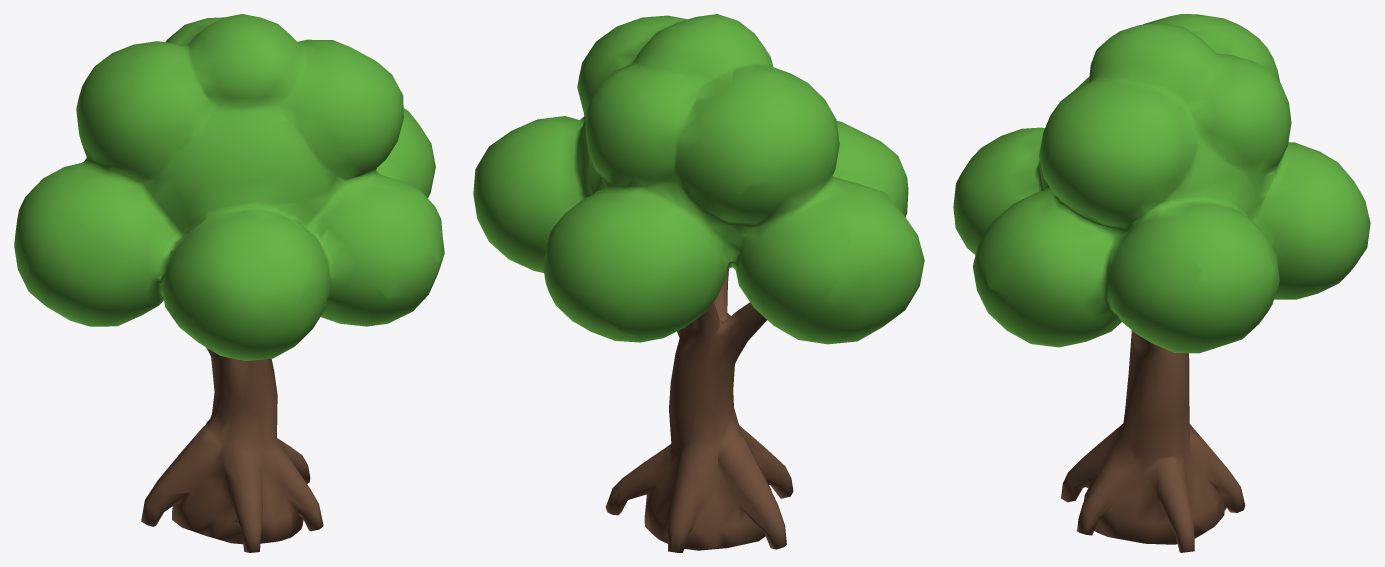
Rendered from tree_oak.glb.
The picture shows the model from 3 angles, left to right: view 1: azimuth 30°, elevation 25°; view 2: azimuth 150°, elevation 25°; view 3: azimuth 270°, elevation 25°; orthographic projection. The views are drawn at different scales.
Visible parts, largest first — view 1: Canopy, Trunk; view 2: Canopy, Trunk; view 3: Canopy, Trunk.
Part boxes in pixels (bbox=[...]): Canopy: bbox=[14, 14, 444, 360]; Trunk: bbox=[141, 347, 323, 552]; Canopy: bbox=[473, 14, 924, 344]; Trunk: bbox=[605, 268, 793, 552]; Canopy: bbox=[953, 14, 1370, 353]; Trunk: bbox=[1061, 330, 1245, 552].
Size of what is drawn, in the model's own units: 7.4 by 8.47 by 6.52.
